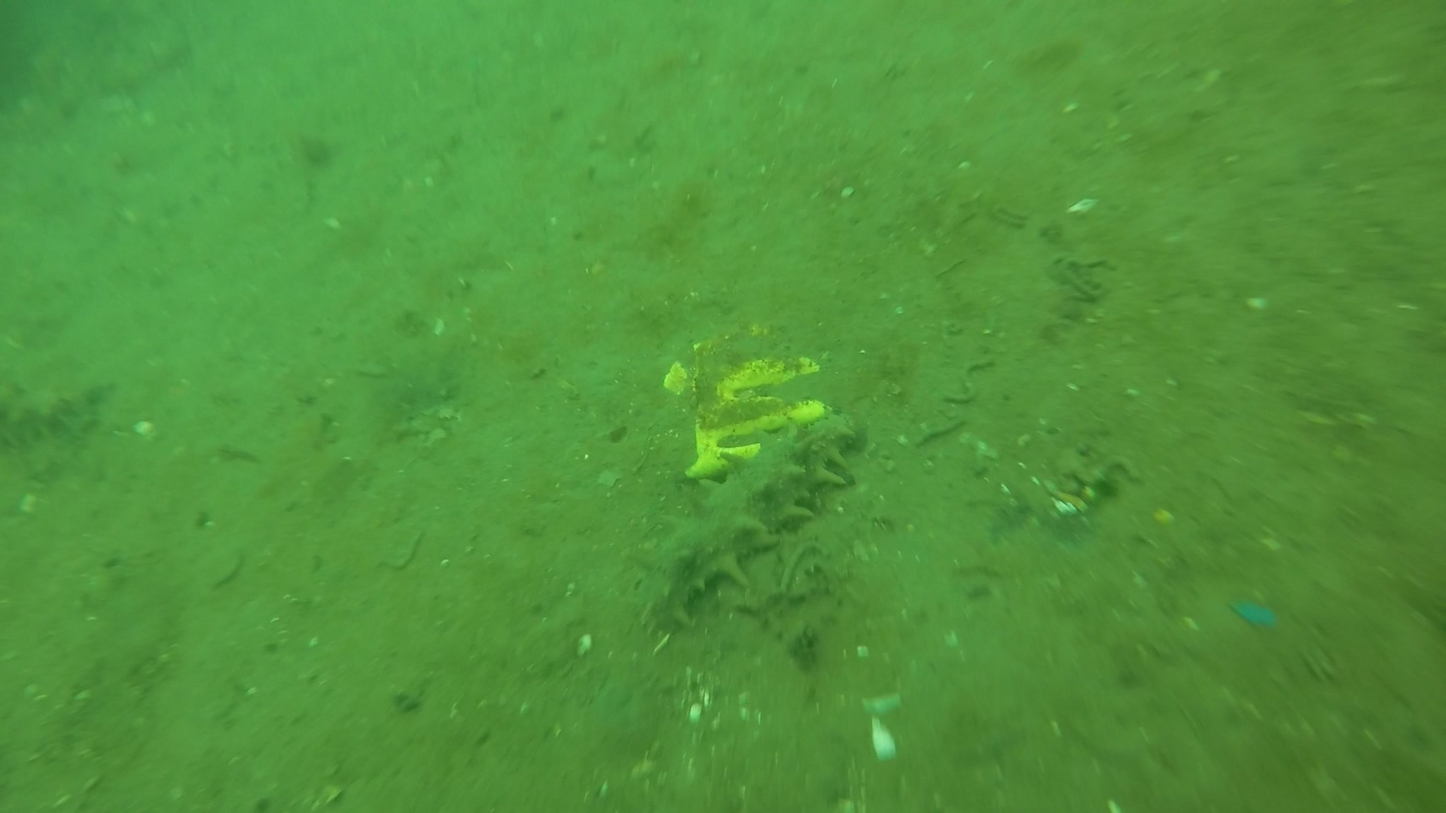echinus: (633, 415, 867, 628)
